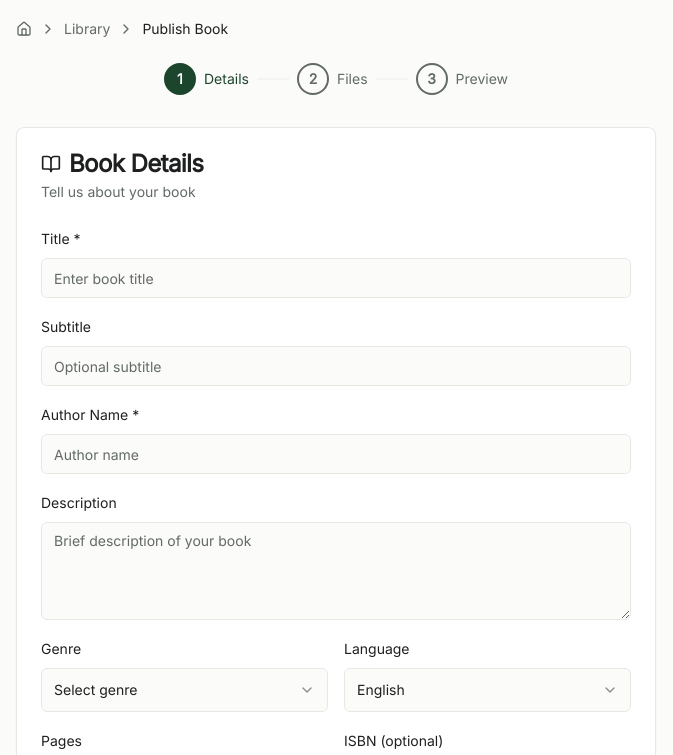
Test case: PublishBook › navigates back from Step 2 to Step 1
The image size is (673, 755).
Type "My Masterpiece" into the field labelled "Title *" at (336, 278), box [41,258,631,298]
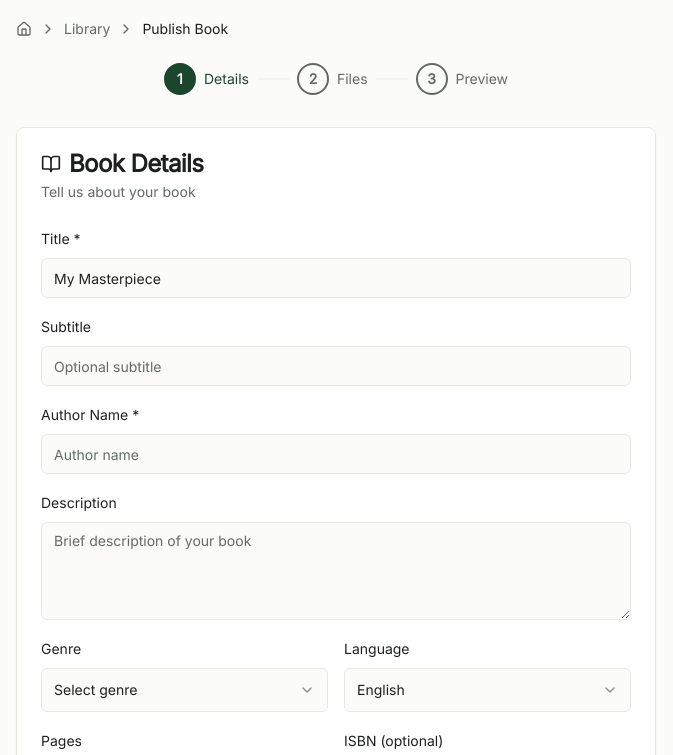
Type "Jane Author" into the field labelled "Author Name *" at (336, 454), box [41,434,631,474]
(page scrolled)
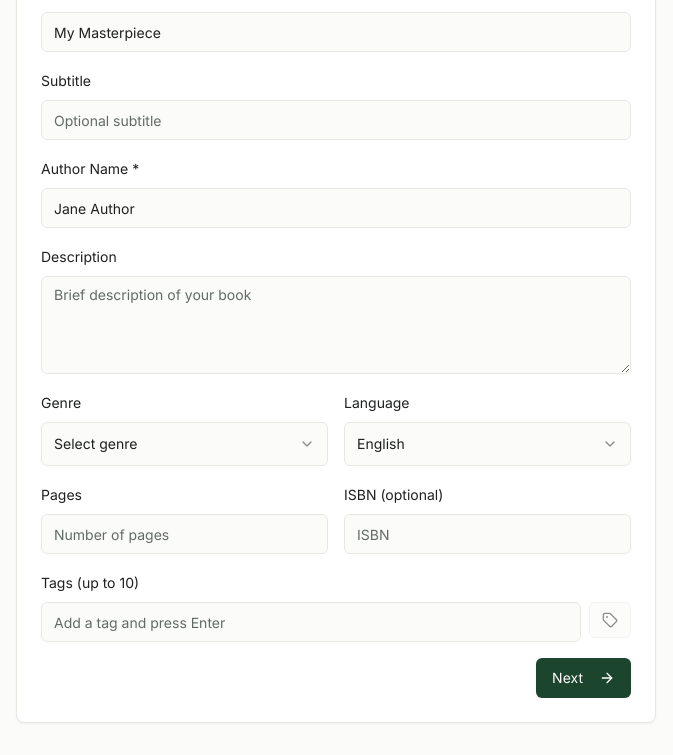
Click the button "Next" at (584, 678), box [536,658,631,698]
(page scrolled)
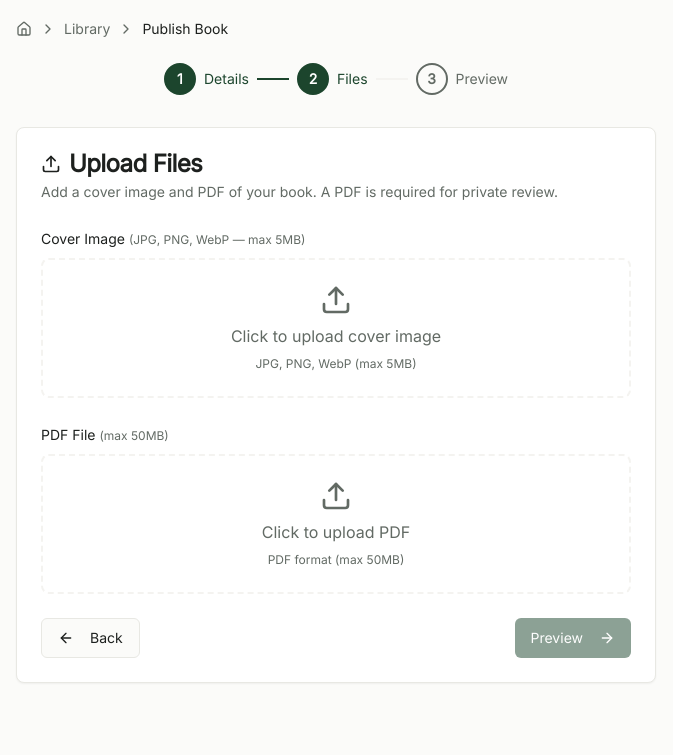
Click the button "Back" at (90, 638), box [41,618,140,658]
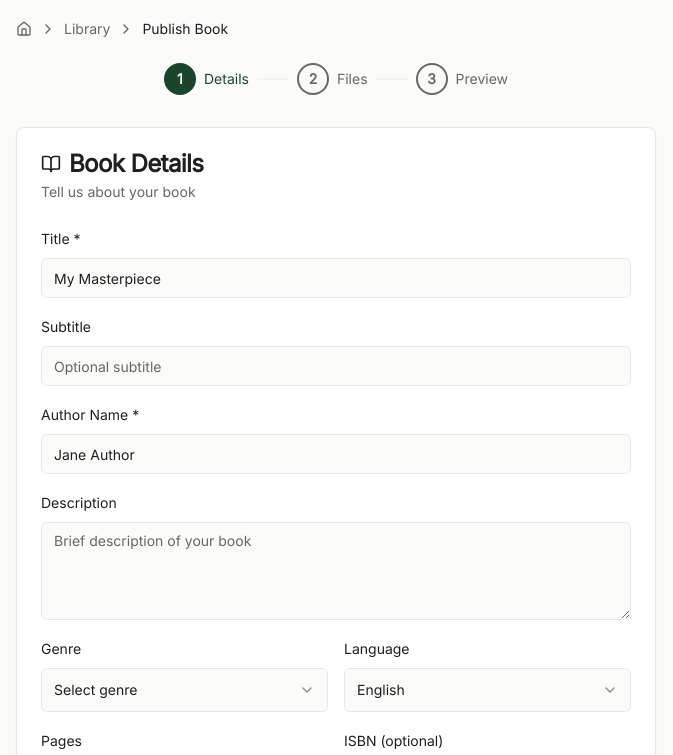
expect the heading "Book Details" is shown: met, box [41,149,203,178]
expect the field showing "My Masterpiece" is shown: met, box [41,258,631,298]
